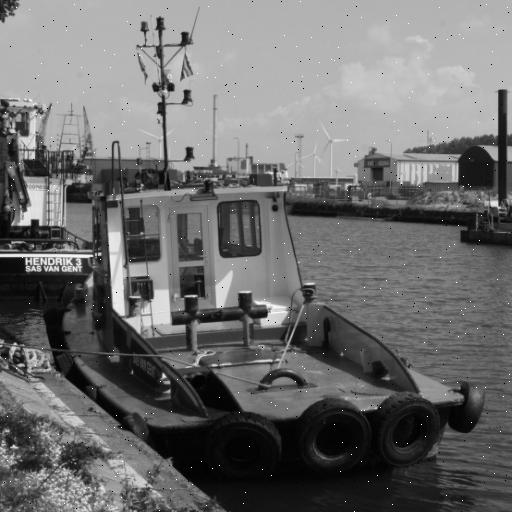tugboat: (39, 13, 492, 486)
